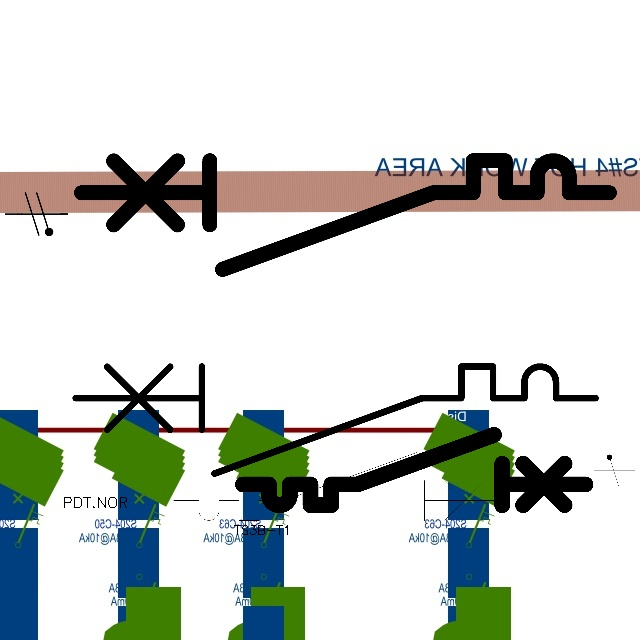interruptor_termomagnetico: (67, 147, 623, 283), (62, 353, 609, 487), (234, 426, 595, 514), (165, 444, 514, 529)
